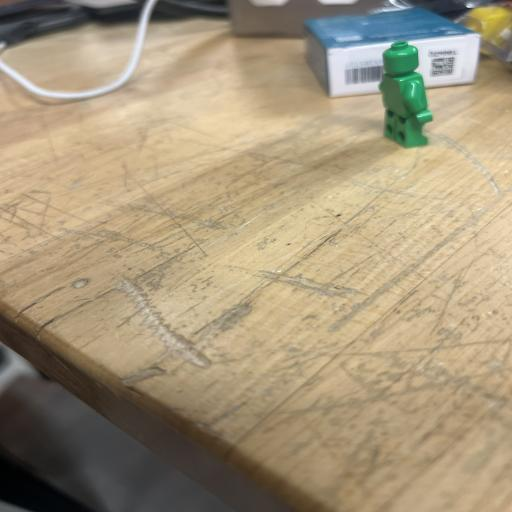green-lego-minifigure-detector: (379, 42, 432, 147)
